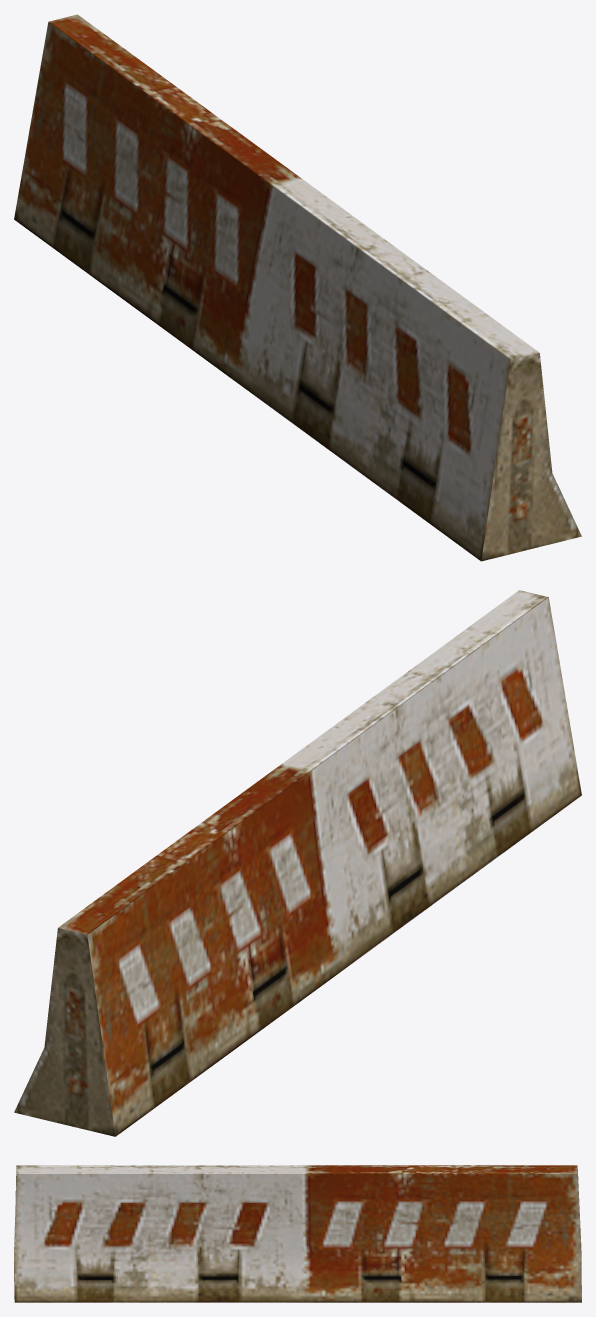
Rendered from RailA.FBX.
3 renders of one model, top to bottom at view 1: azimuth 30°, elevation 25°; view 2: azimuth 150°, elevation 25°; view 3: azimuth 270°, elevation 25°, orthographic. The views are drawn at different scales.
Parts seen in each view (by area): view 1: RailA; view 2: RailA; view 3: RailA.
Part boxes in pixels (left/top/right/bottom): RailA: left=14, top=14, right=581, bottom=561; RailA: left=14, top=590, right=581, bottom=1136; RailA: left=14, top=1165, right=581, bottom=1302.
Bounding box in the file's own units: 40.55 × 325 × 73.66.
